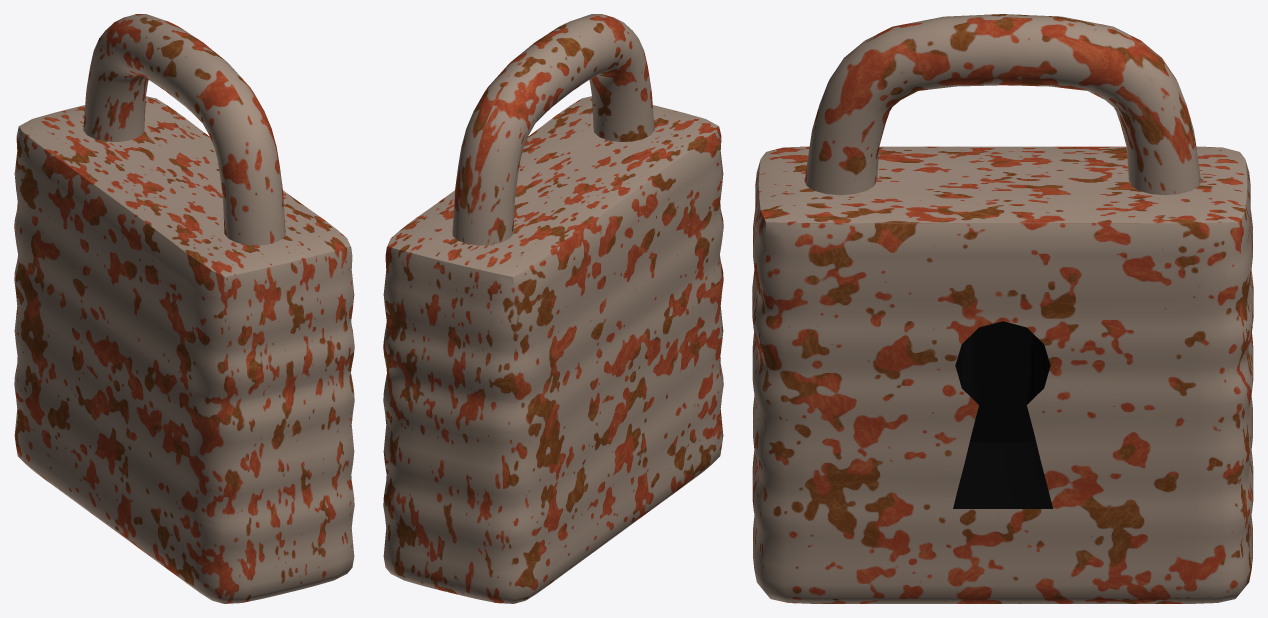
File: cadeado.fbx
3 views of the same model, side by side, from view 1: azimuth 30°, elevation 25°; view 2: azimuth 150°, elevation 25°; view 3: azimuth 270°, elevation 25° (orthographic). The views are drawn at different scales.
Visible parts, largest first — view 1: cadeado_LOD0, cadeado.LOD0.001; view 2: cadeado_LOD0, cadeado.LOD0.001; view 3: cadeado_LOD0, cadeado.LOD0.001.
Boxes of the visible parts, x1=… form: cadeado_LOD0: x1=14, y1=96, x2=354, y2=603; cadeado.LOD0.001: x1=83, y1=14, x2=285, y2=245; cadeado_LOD0: x1=383, y1=96, x2=723, y2=603; cadeado.LOD0.001: x1=452, y1=14, x2=654, y2=245; cadeado_LOD0: x1=752, y1=146, x2=1253, y2=603; cadeado.LOD0.001: x1=805, y1=14, x2=1200, y2=195.
Size of what is drawn, in the model's own units: 2.25 by 6.97 by 5.68.
